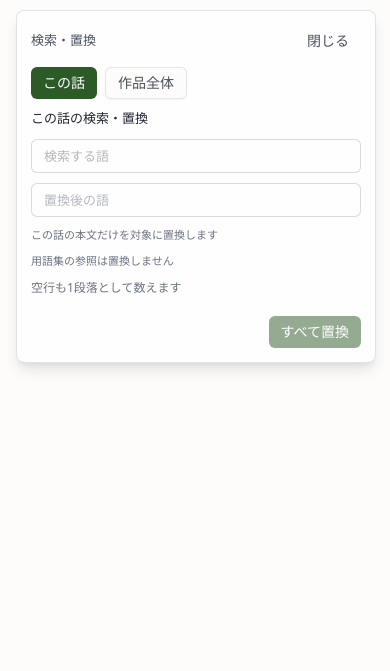
WorkSearchPanel › IME中は検索せず確定後に件数を表示する
Click the button "作品全体" at (146, 83), box [105,67,187,99]
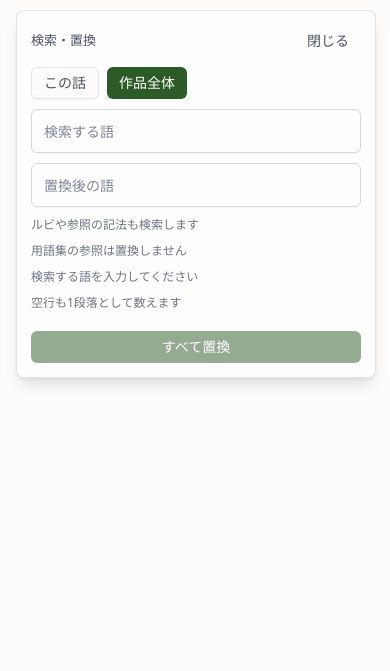
Type "猫" into the field labelled "検索する語" at (196, 131), box [31,109,361,153]
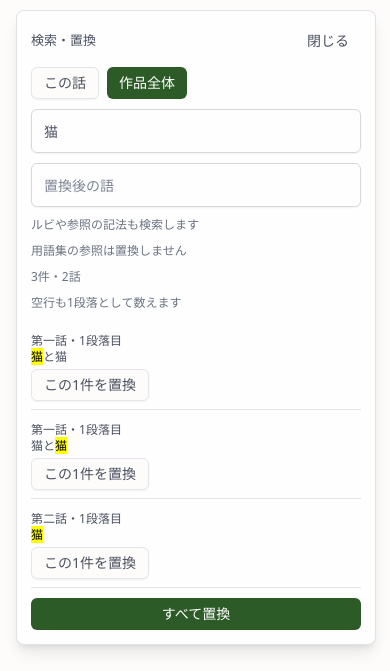
Expected: the text "3件・2話" is shown, [31,268,81,285]
